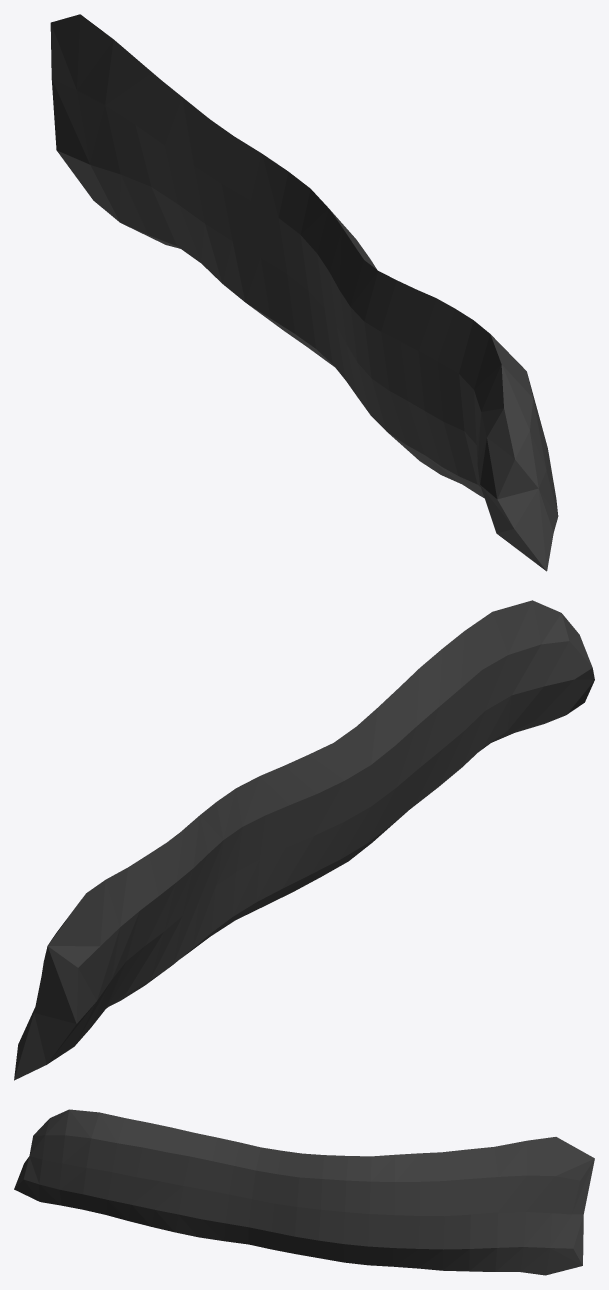
The model's file is Retr_angul_ocul_lat.glb.
The picture shows the model from 3 angles, top to bottom: view 1: azimuth 30°, elevation 25°; view 2: azimuth 150°, elevation 25°; view 3: azimuth 270°, elevation 25°; orthographic projection. The views are drawn at different scales.
Parts seen in each view (by area): view 1: Retr_angul_ocul_lat; view 2: Retr_angul_ocul_lat; view 3: Retr_angul_ocul_lat.
Part boxes in pixels (box(x1,y1,x2,y2)): Retr_angul_ocul_lat: box(50, 14, 558, 571); Retr_angul_ocul_lat: box(14, 600, 594, 1080); Retr_angul_ocul_lat: box(14, 1109, 594, 1275).
Bounding box in the file's own units: 0.0908 × 0.1186 × 0.4677.
1 material, 1 textured.
